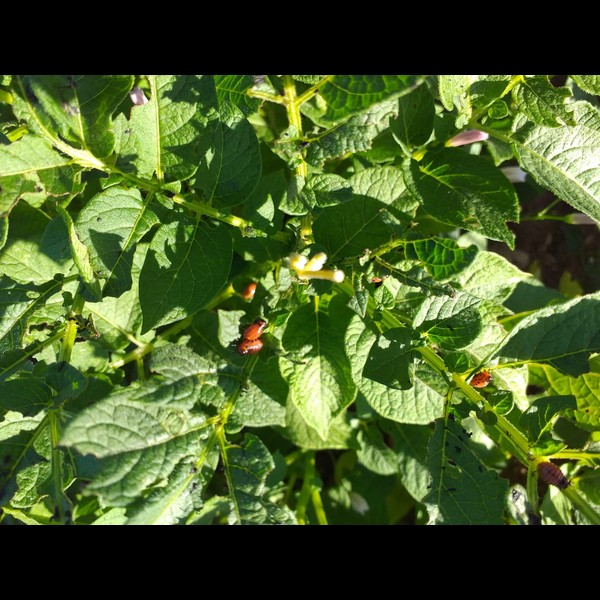hrosc: (245, 317, 268, 340), (236, 338, 266, 355), (468, 369, 492, 390), (242, 282, 258, 301)
